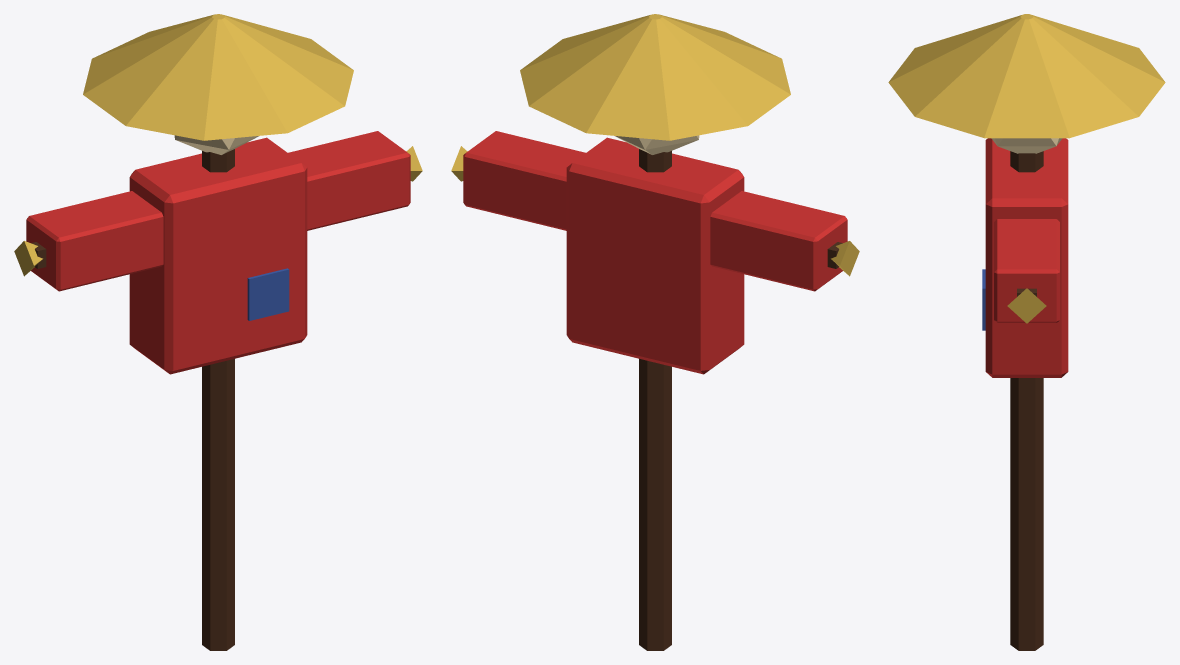
File: orang_orangan_sawah_v001.glb
3 renders of one model, left to right at view 1: azimuth 30°, elevation 25°; view 2: azimuth 150°, elevation 25°; view 3: azimuth 270°, elevation 25°, orthographic.
Visible parts, largest first — view 1: Orang_Orangan_Sawah; view 2: Orang_Orangan_Sawah; view 3: Orang_Orangan_Sawah.
Boxes of the visible parts, left/top/right/bottom form: Orang_Orangan_Sawah: left=14, top=14, right=422, bottom=650; Orang_Orangan_Sawah: left=451, top=14, right=859, bottom=650; Orang_Orangan_Sawah: left=888, top=14, right=1165, bottom=650.
Size of the model in its own units: 1.36 by 2.1 by 0.84.
